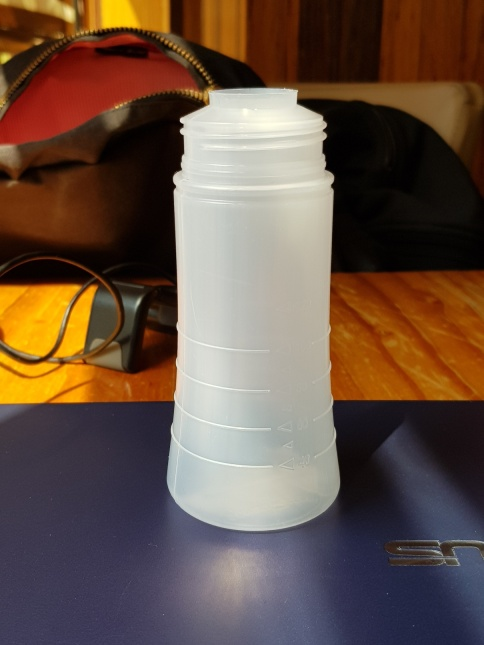Plastic: (157, 80, 344, 533)
